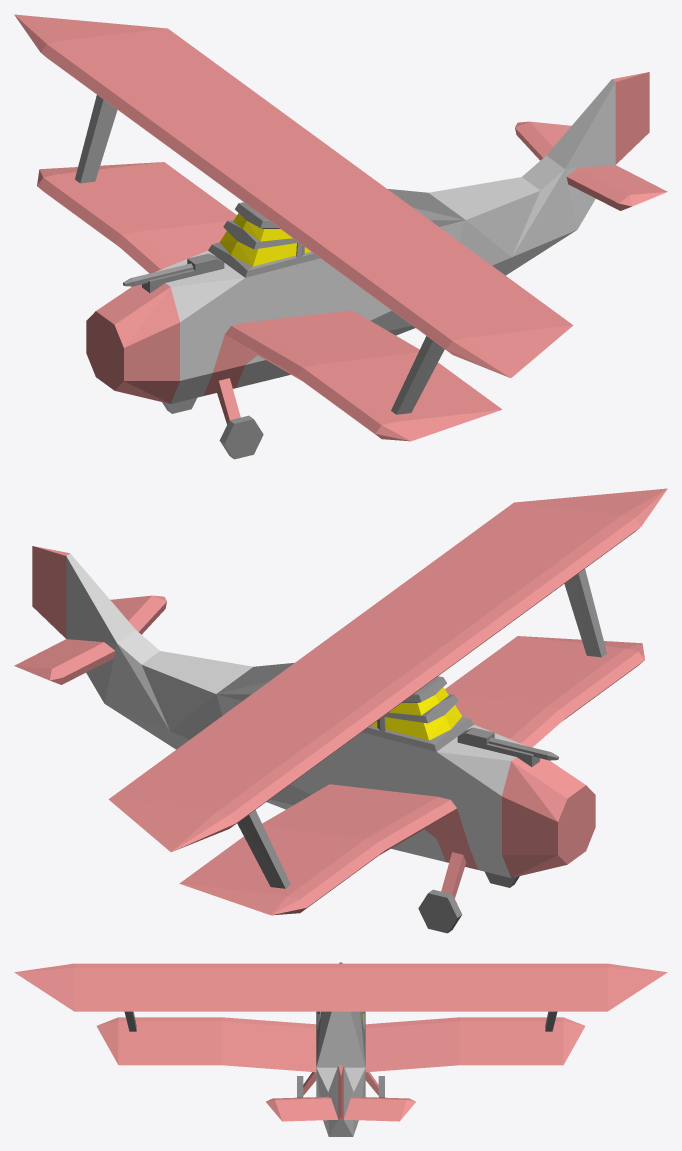
File: BP Mark.I.fbx
3 renders of one model, top to bottom at view 1: azimuth 30°, elevation 25°; view 2: azimuth 150°, elevation 25°; view 3: azimuth 270°, elevation 25°, orthographic. The views are drawn at different scales.
Parts seen in each view (by area): view 1: BP Mark.I; view 2: BP Mark.I; view 3: BP Mark.I.
Boxes of the visible parts, x1=… form: BP Mark.I: x1=14, y1=14, x2=667, y2=459; BP Mark.I: x1=14, y1=488, x2=667, y2=933; BP Mark.I: x1=14, y1=962, x2=667, y2=1136.
Bounding box in the file's own units: 639 × 284 × 1010.
